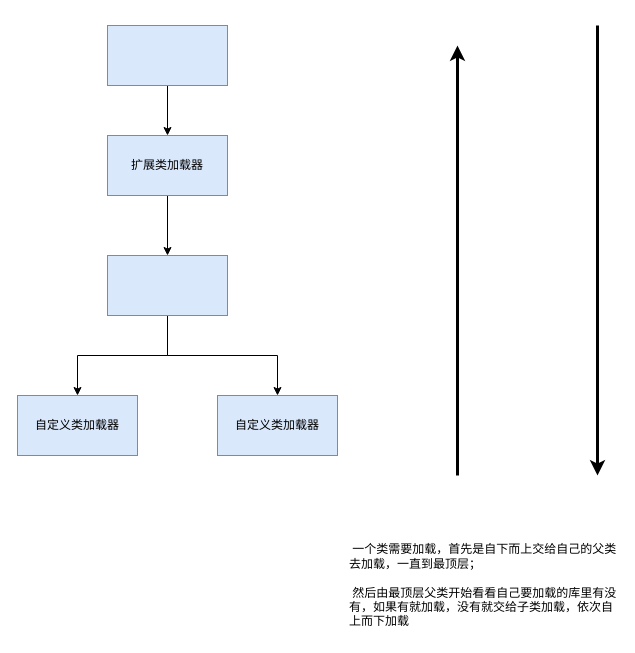
Some shapes in this 635 by 653 pixel diagram are drawn without their labels. Each missing label, with the centre of its shape:
"启动类加载器" goes at (167,55).
"程序类加载器" goes at (167,285).
